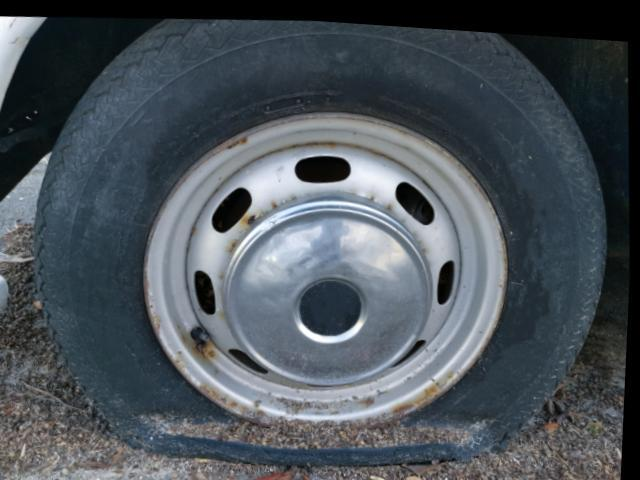tire flat: (36, 16, 609, 466)
